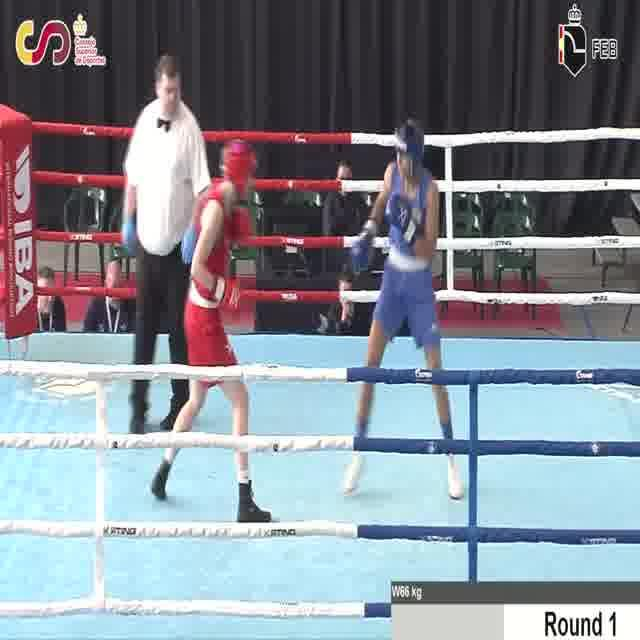blue-player: (338, 115, 465, 502)
red-player: (147, 137, 271, 524)
referee: (120, 49, 214, 439)
